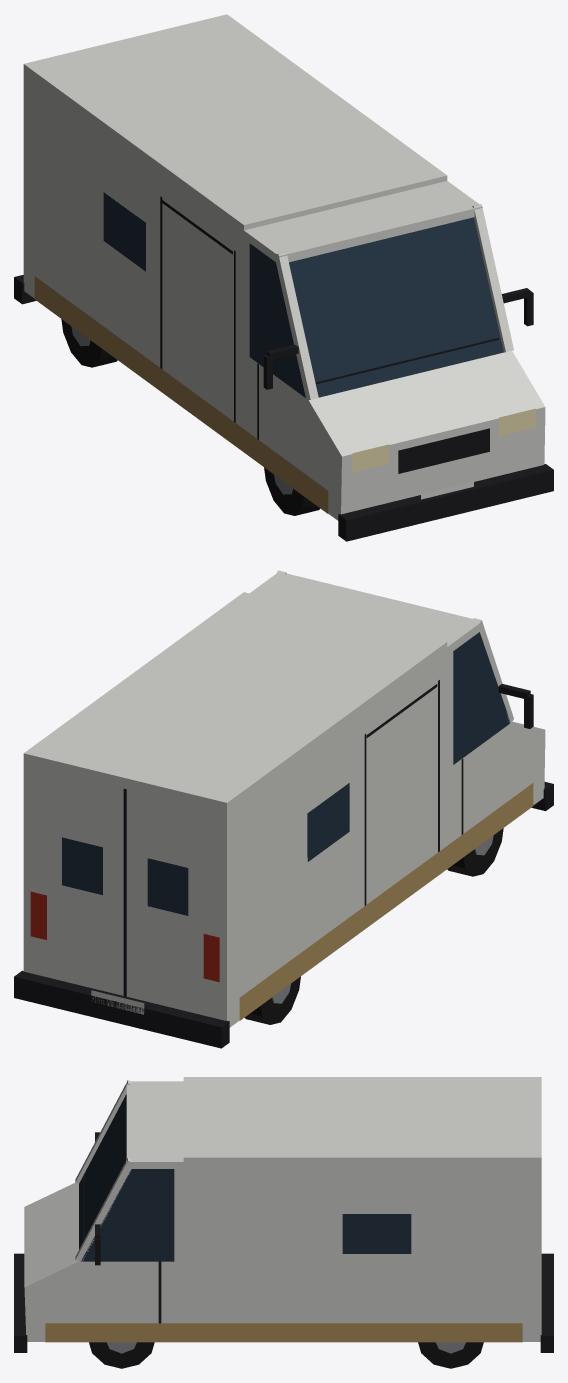
File: veh_van.glb
3 views of the same model, one above another, from view 1: azimuth 30°, elevation 25°; view 2: azimuth 150°, elevation 25°; view 3: azimuth 270°, elevation 25° (orthographic). The views are drawn at different scales.
Visible parts, largest first — view 1: body; view 2: body; view 3: body.
Boxes of the visible parts, x1,y1,x2,y2 form: body: [14, 14, 553, 541]; body: [14, 570, 553, 1048]; body: [14, 1077, 553, 1368].
Size of the model in its own units: 2.62 by 2.45 by 5.66.
